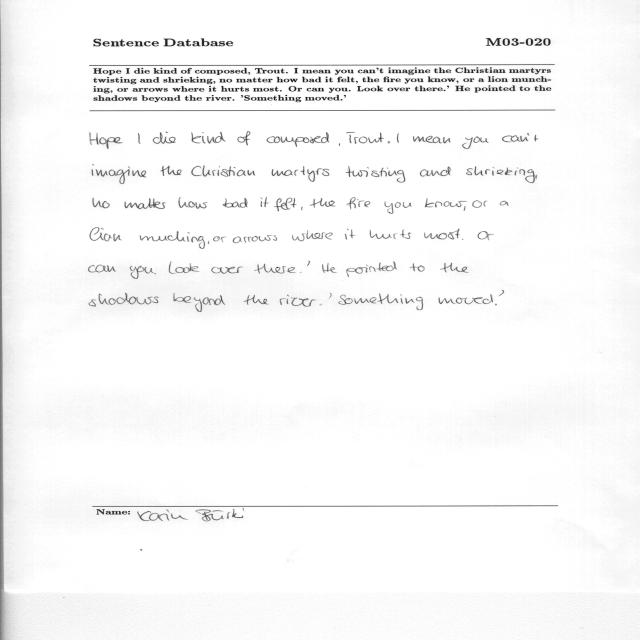word: (338, 294, 423, 311), (466, 167, 535, 184), (140, 231, 205, 249), (93, 164, 147, 184), (346, 166, 405, 183), (174, 293, 226, 312), (89, 293, 159, 307), (267, 132, 329, 147), (272, 166, 330, 182), (346, 261, 397, 277), (192, 166, 256, 177), (425, 198, 467, 211), (439, 294, 493, 304), (90, 133, 123, 149), (124, 198, 166, 209), (346, 132, 384, 144), (292, 230, 333, 241), (90, 228, 122, 242), (280, 295, 316, 307), (254, 264, 296, 274), (424, 229, 460, 240), (191, 132, 226, 143), (370, 230, 412, 239), (384, 201, 412, 214), (169, 262, 199, 274), (233, 235, 277, 243), (462, 136, 489, 149), (179, 197, 208, 209), (502, 133, 538, 142), (130, 266, 154, 279), (420, 167, 451, 177), (153, 131, 176, 144), (347, 197, 370, 210), (274, 198, 296, 211), (440, 263, 468, 273), (310, 198, 336, 208), (243, 295, 269, 305), (413, 136, 450, 143), (223, 198, 248, 208), (88, 265, 116, 273), (211, 267, 243, 274), (161, 166, 182, 176), (238, 132, 251, 146), (93, 198, 110, 208), (322, 263, 337, 273), (478, 231, 494, 240), (410, 263, 425, 271), (345, 229, 355, 240), (261, 197, 269, 207), (472, 200, 482, 208), (213, 236, 226, 242), (500, 201, 509, 206), (138, 133, 141, 144), (499, 290, 504, 296), (484, 201, 488, 207), (397, 133, 399, 143), (307, 261, 310, 266), (329, 293, 332, 298), (536, 175, 538, 179), (301, 207, 303, 210), (320, 304, 323, 306), (388, 142, 390, 144), (339, 143, 340, 146), (208, 241, 209, 244), (154, 273, 156, 274), (300, 272, 302, 273), (495, 304, 497, 305), (462, 239, 463, 240)
